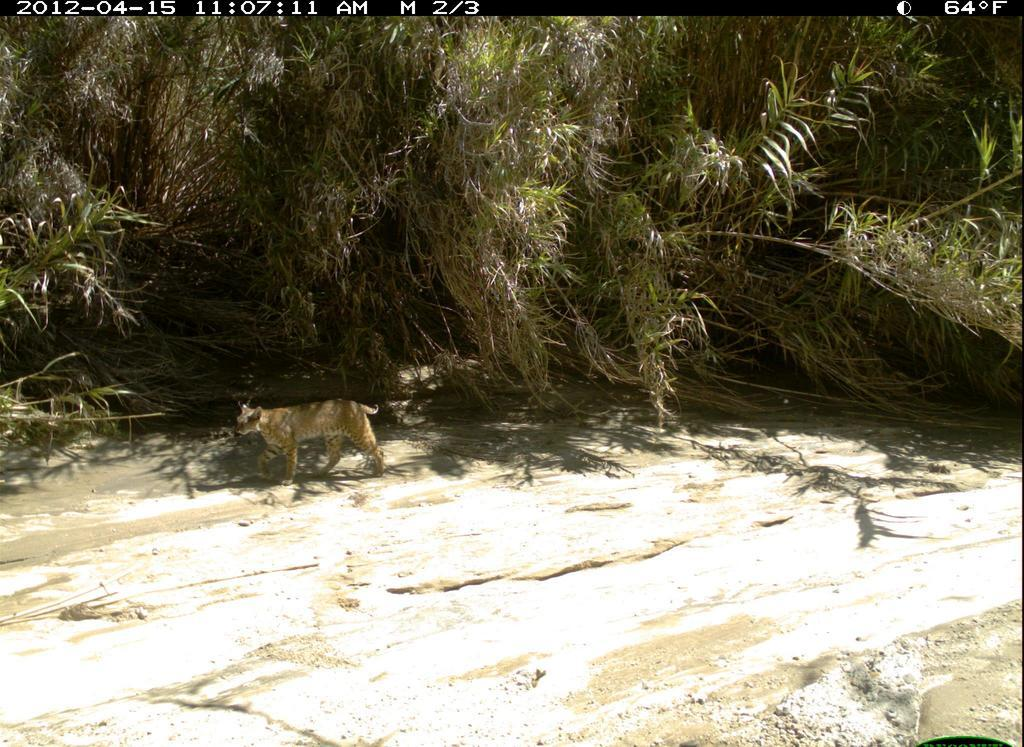bobcat: (226, 391, 400, 493)
